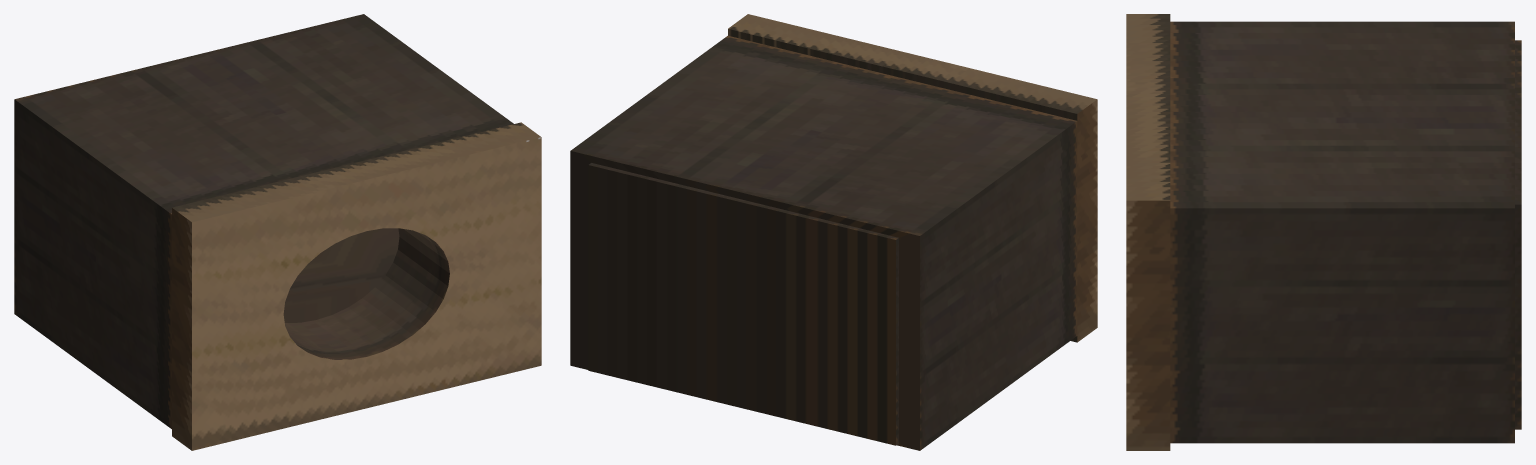
File: pz_counter_wooden_floor__sink_inset_oval.obj
3 views of the same model, side by side, from view 1: azimuth 30°, elevation 25°; view 2: azimuth 150°, elevation 25°; view 3: azimuth 270°, elevation 25° (orthographic). The views are drawn at different scales.
Bounding box in the file's own units: 1 × 0.6266 × 0.895.
Materials: 1 (1 with a texture image).
